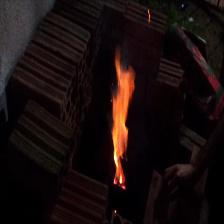fire: (110, 55, 136, 192)
